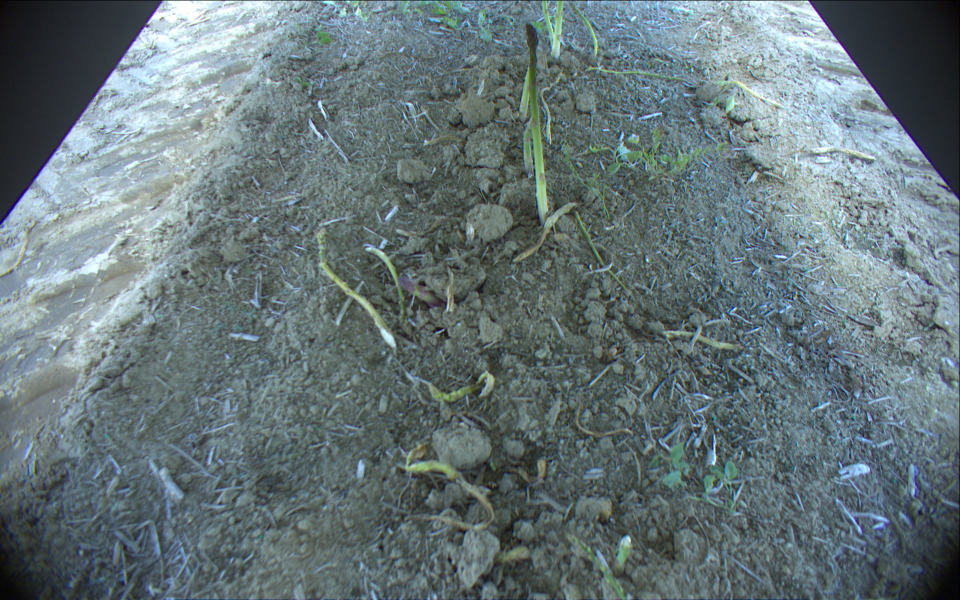aspa: (317, 229, 396, 348), (581, 66, 782, 108), (405, 444, 498, 529), (526, 22, 552, 225), (574, 209, 629, 292), (563, 534, 626, 600), (366, 246, 407, 322), (412, 371, 496, 405), (665, 326, 742, 351), (566, 1, 599, 56), (540, 68, 562, 141), (521, 118, 536, 179), (612, 537, 635, 572), (518, 64, 532, 119), (553, 1, 566, 55), (543, 1, 554, 48)
